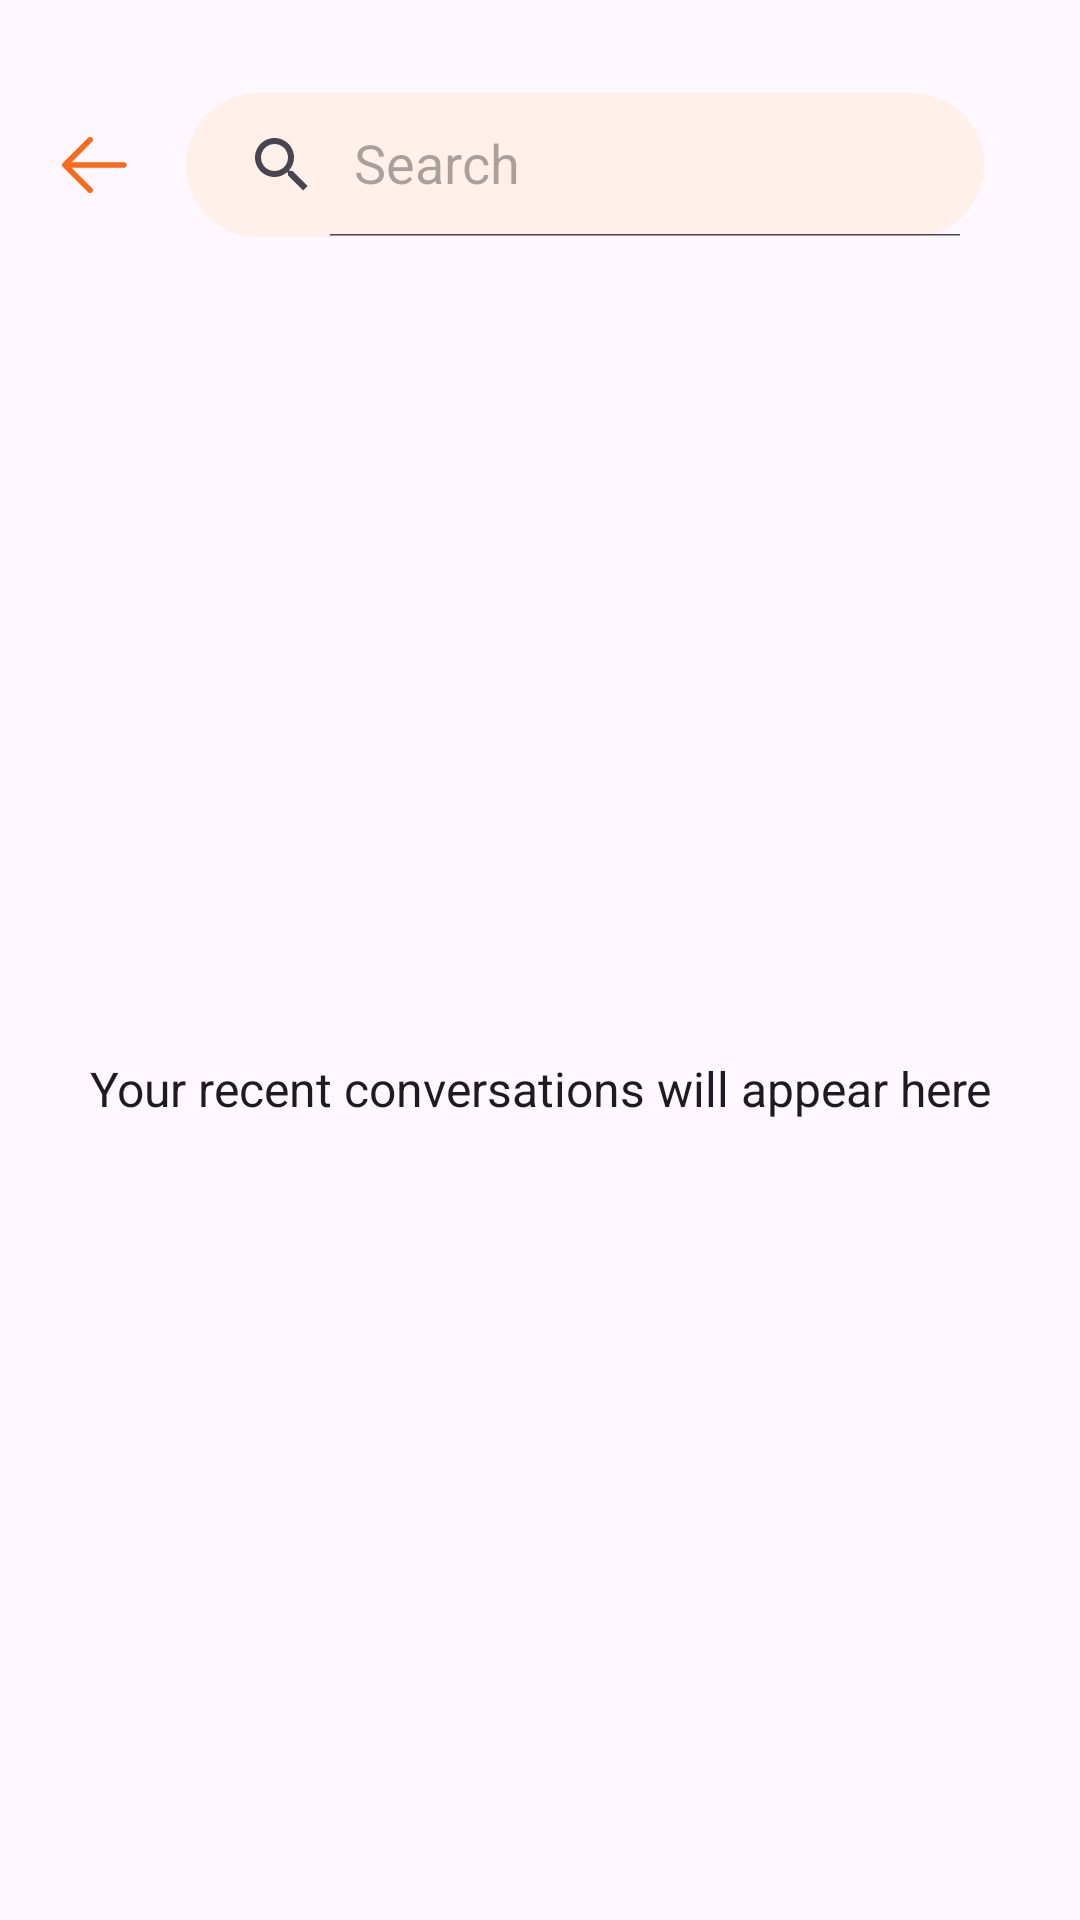

Point at icon controls on the screen. Image size 1080px x 1920px, points as (x=x, y=y).
back: (x=94, y=165)
